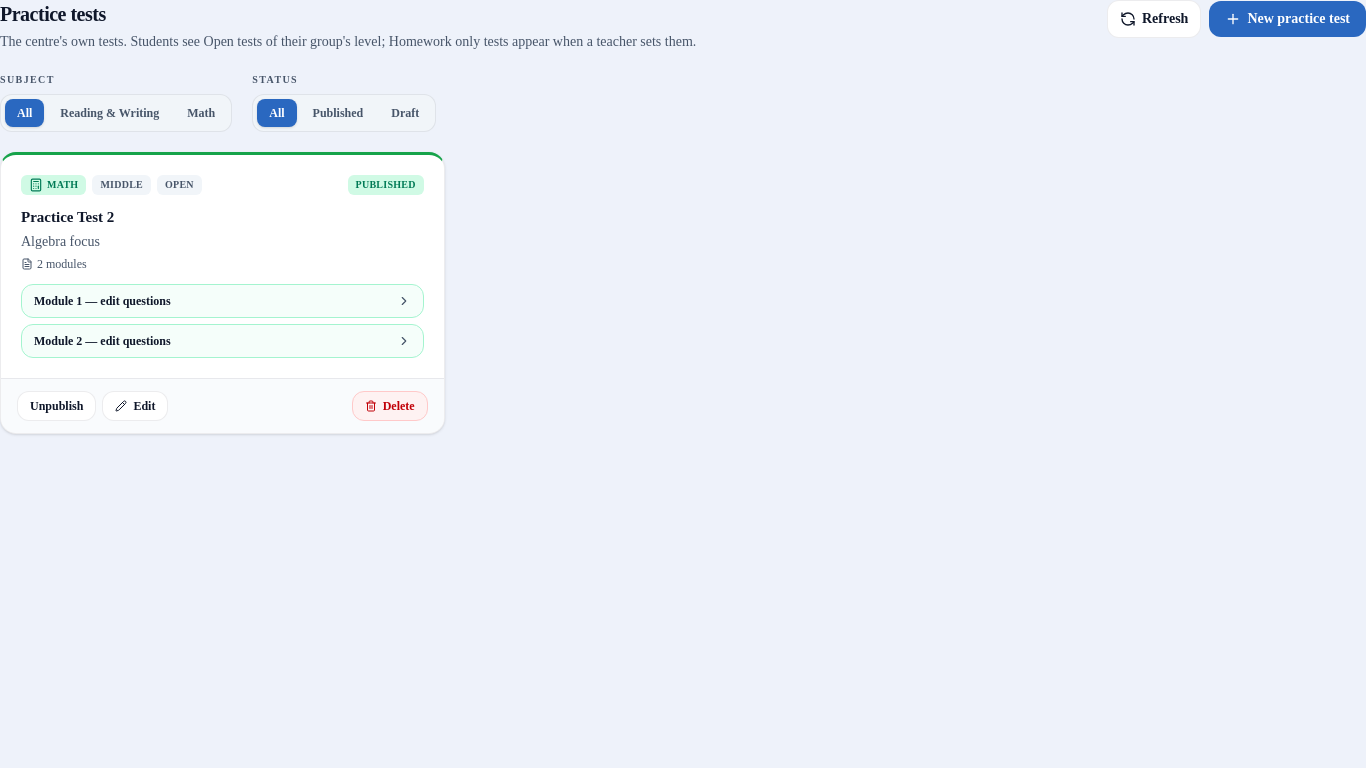
Test: /builder/practice-tests › shows the server's message when a save is refused
The image size is (1366, 768).
Click the button "Edit".
click(135, 406)  # box [102,391,168,421]
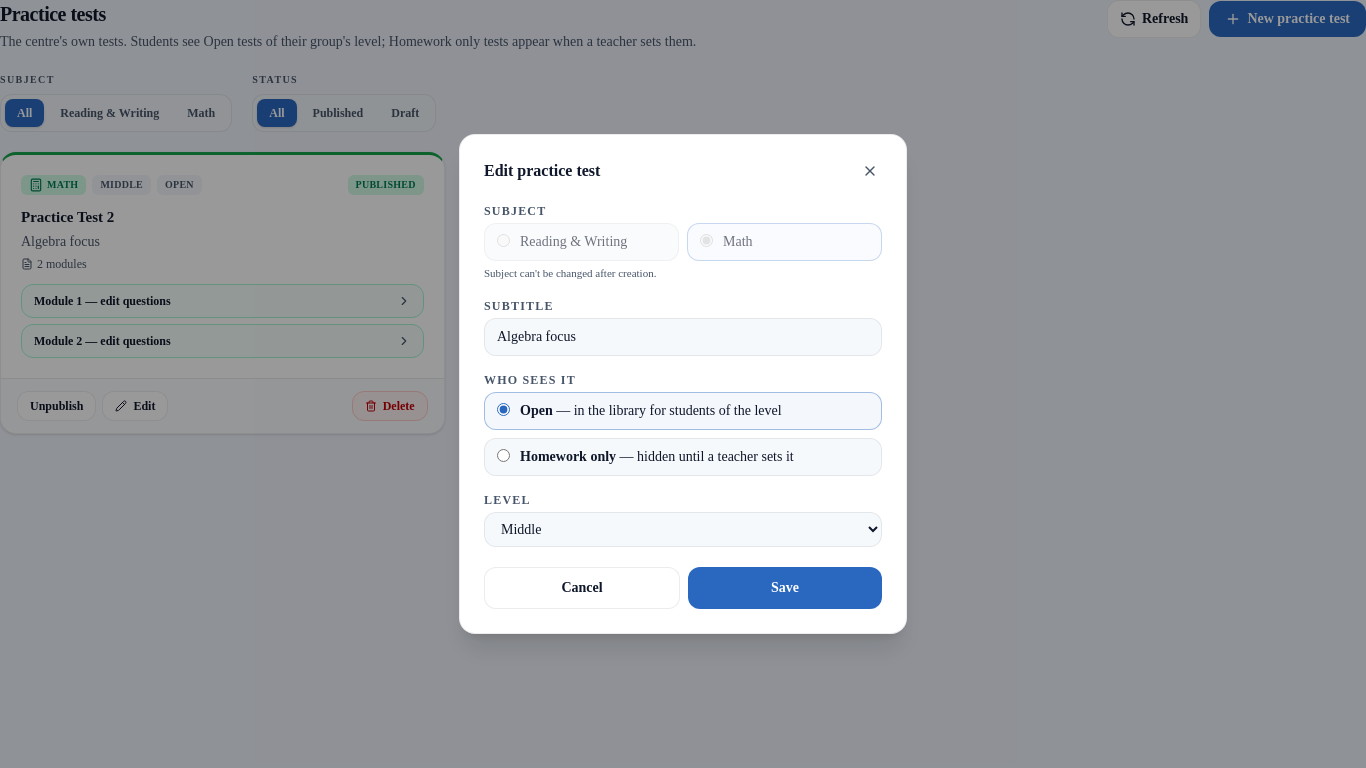
Click the button "Save".
click(785, 588)  # box [688,567,882,609]
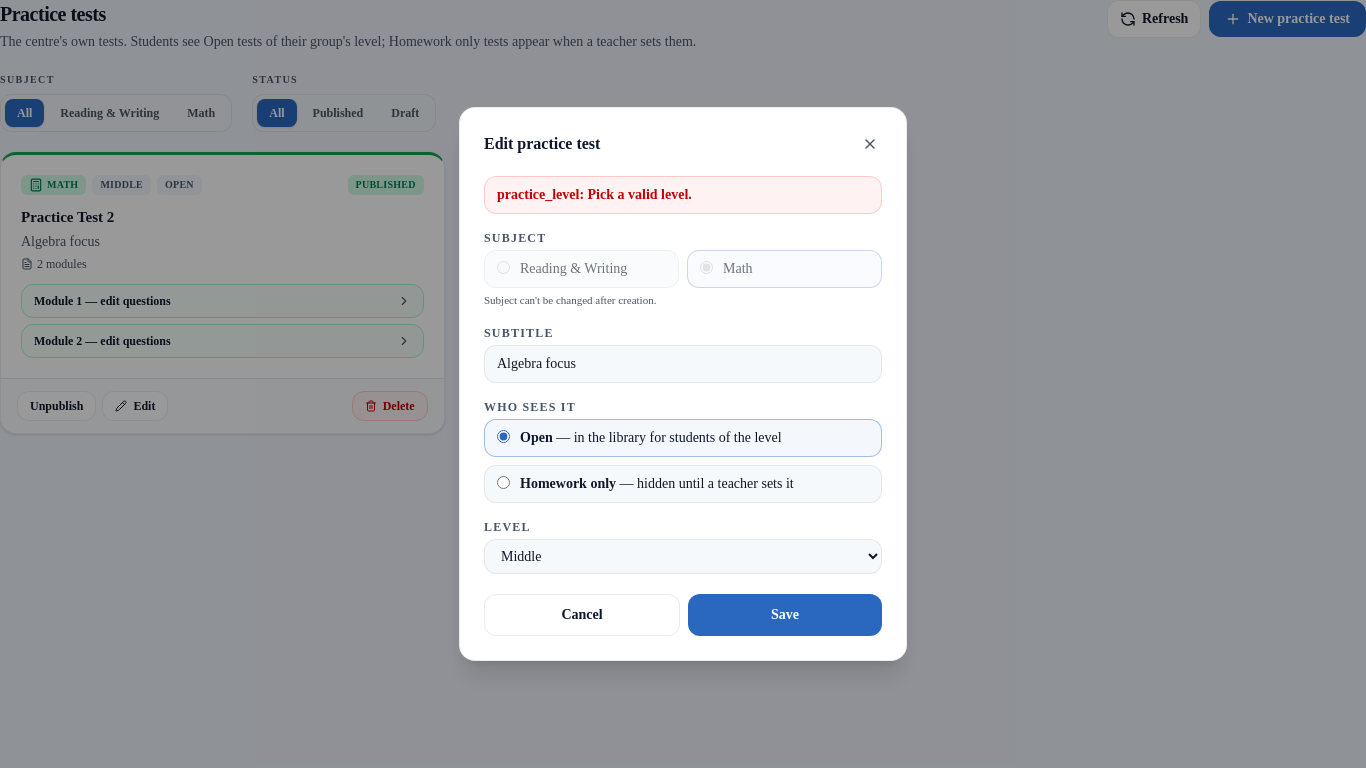
Now the text "Pick a valid level." is shown, box [497,187,692,202]
